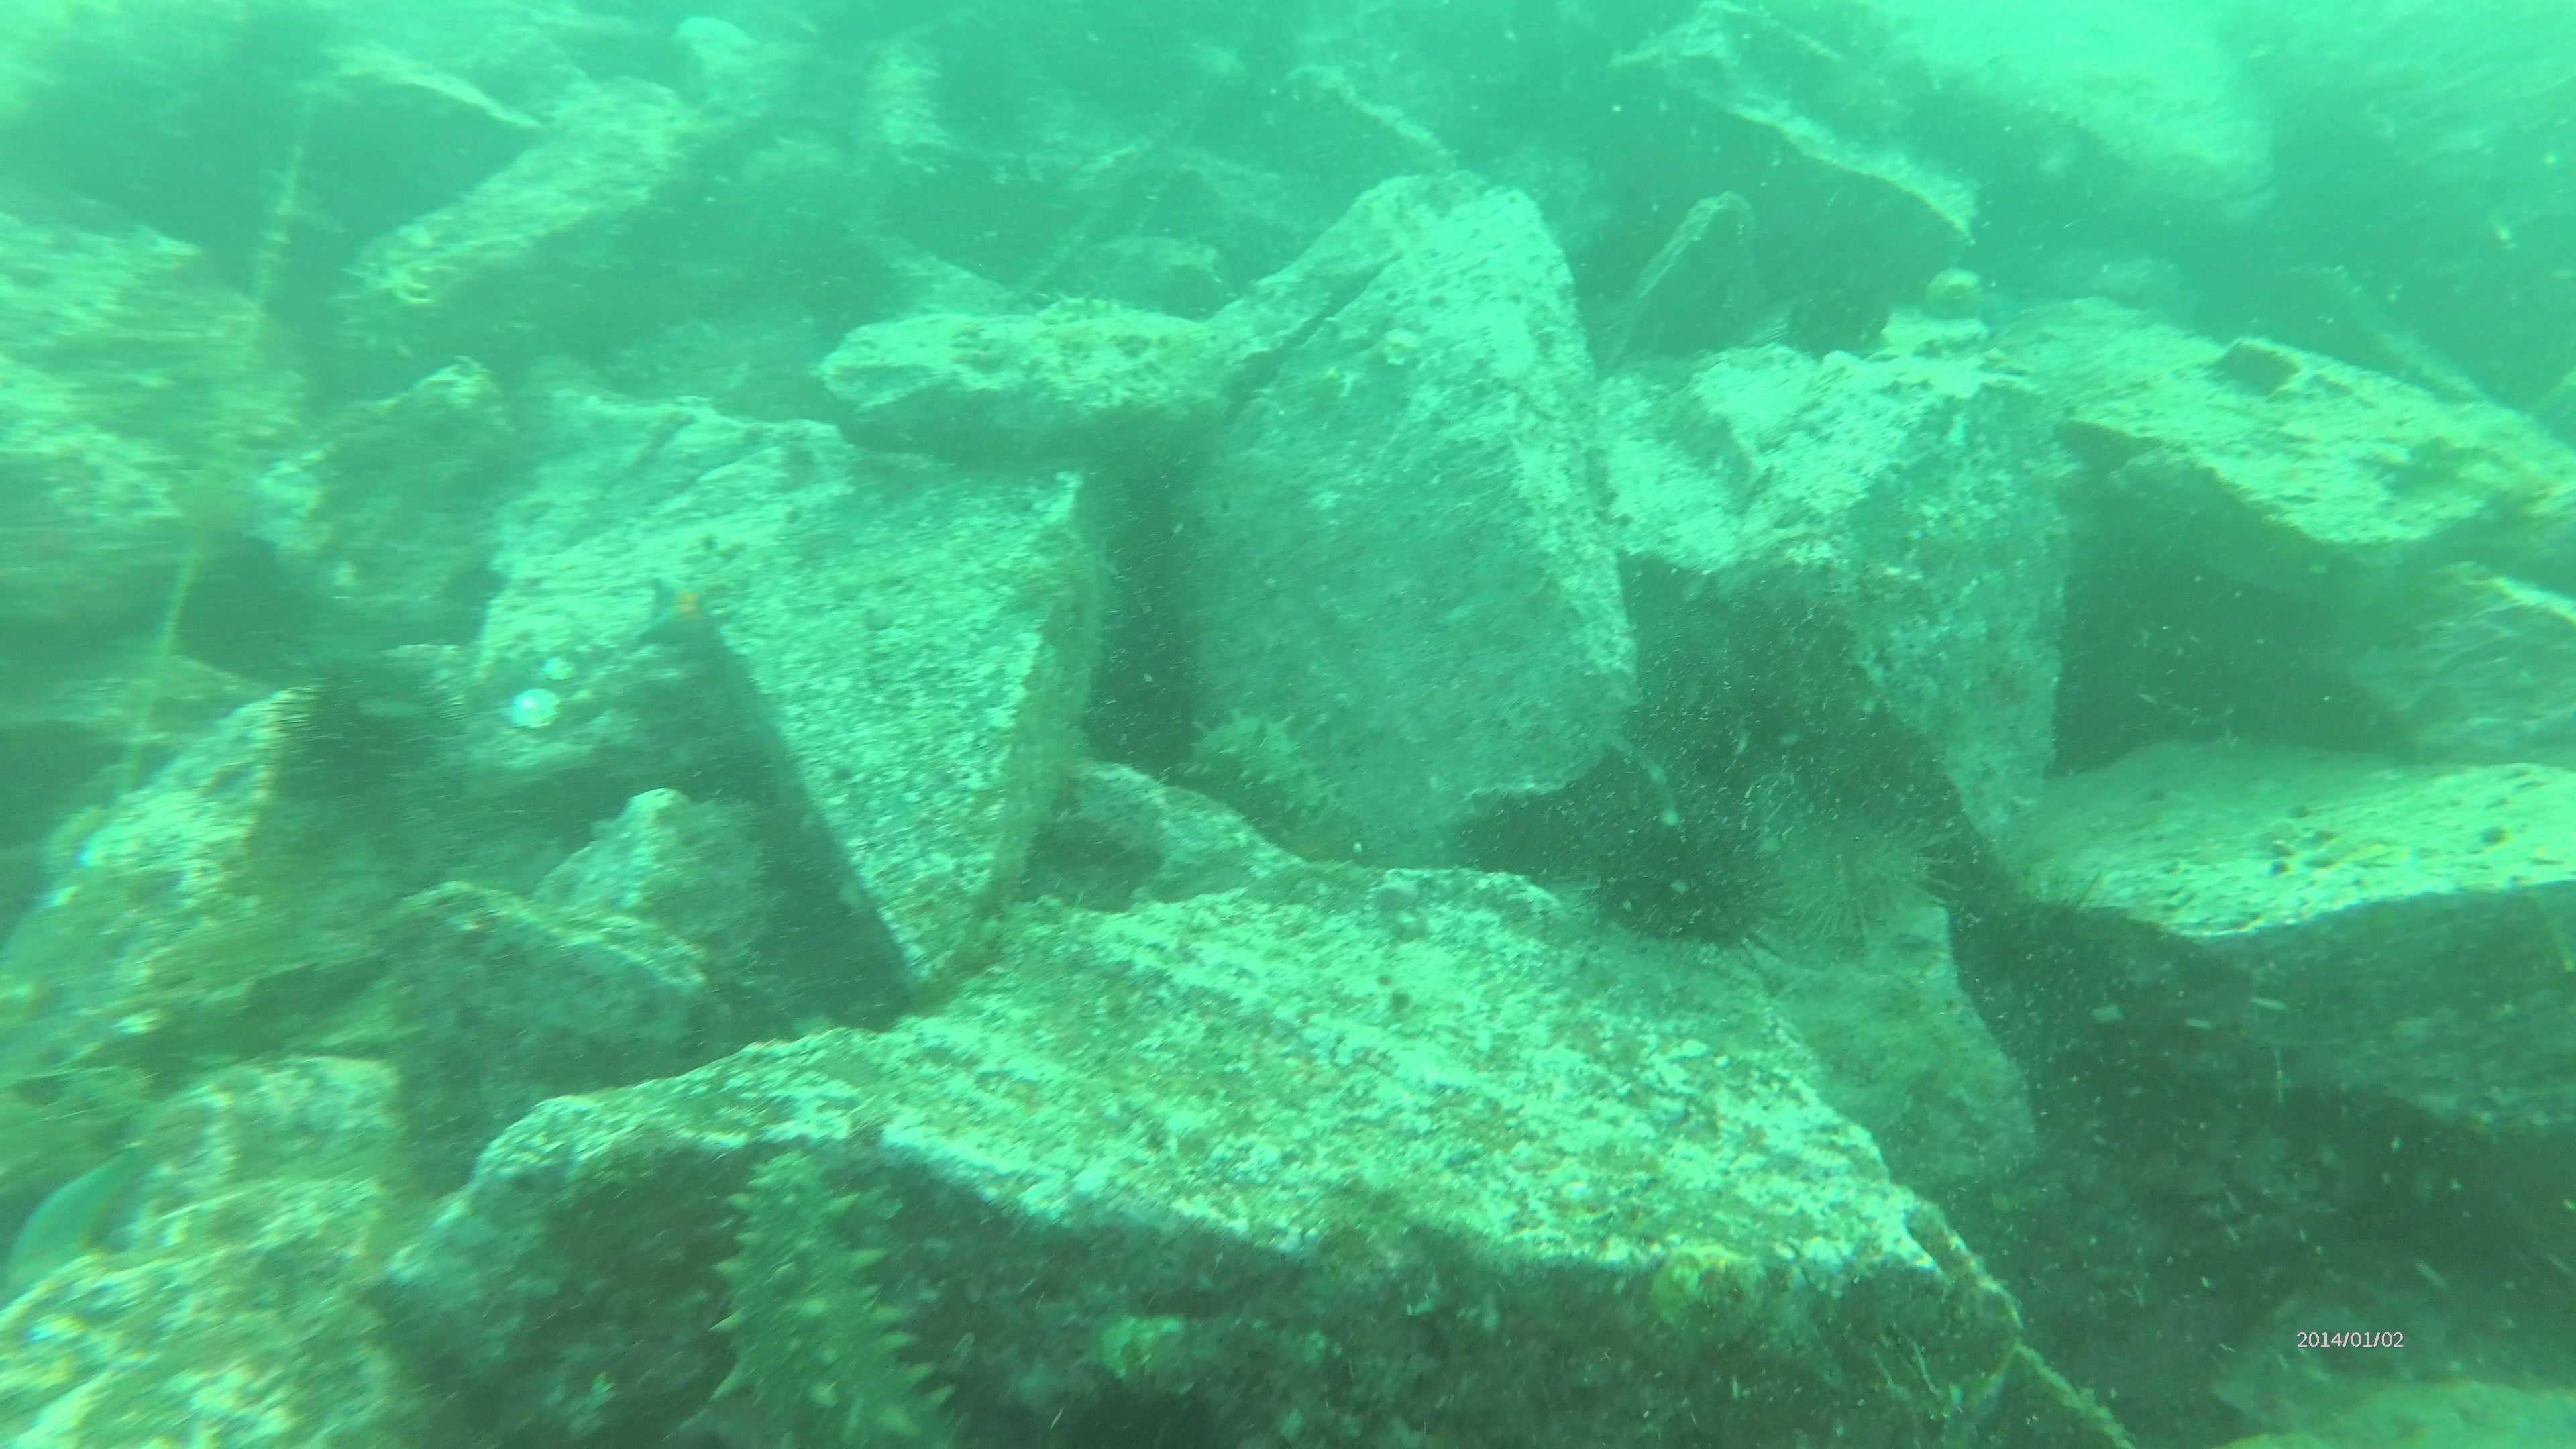echinus: (1585, 778, 1775, 966), (1762, 778, 1966, 950), (248, 639, 462, 801), (1971, 869, 2128, 1014), (918, 21, 1062, 152), (1044, 1355, 1233, 1449)
holothurian: (706, 1148, 952, 1444), (1177, 709, 1369, 846)
starfish: (0, 1129, 147, 1311), (630, 561, 743, 646)
